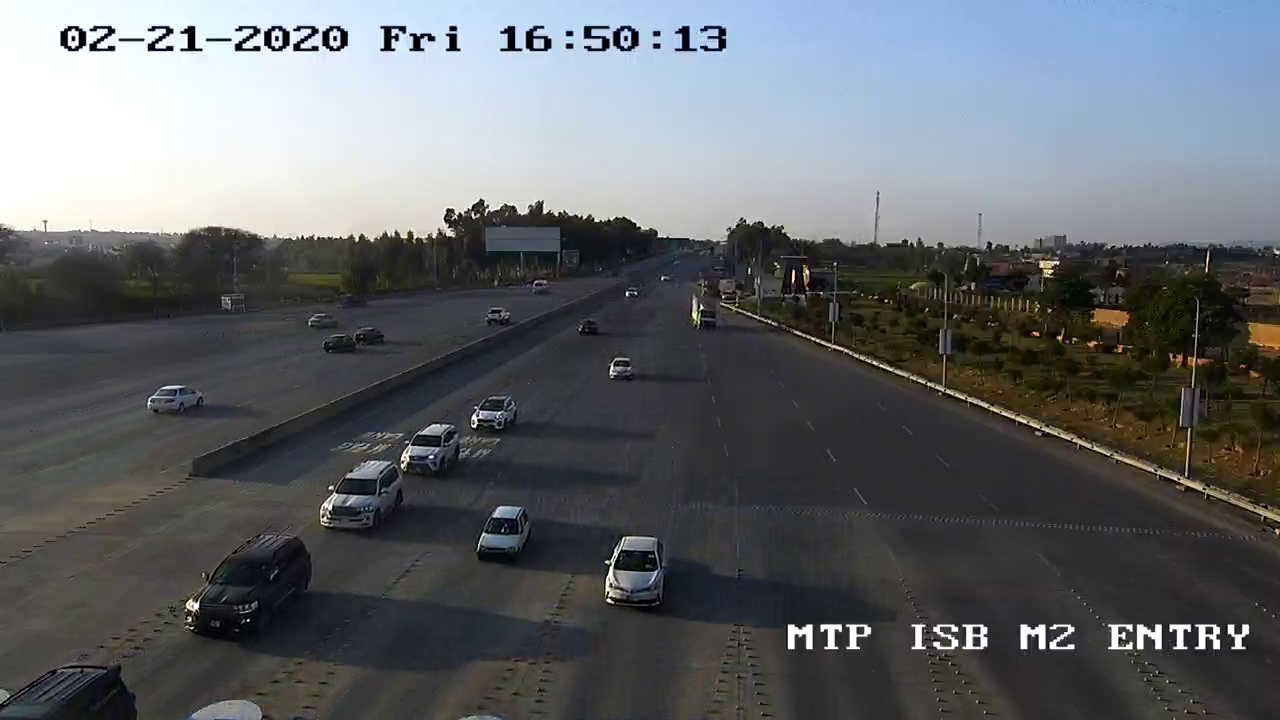f1: (169, 521, 320, 649), (309, 450, 412, 541), (591, 526, 679, 618), (469, 498, 537, 571), (395, 421, 466, 481), (462, 395, 525, 437)
